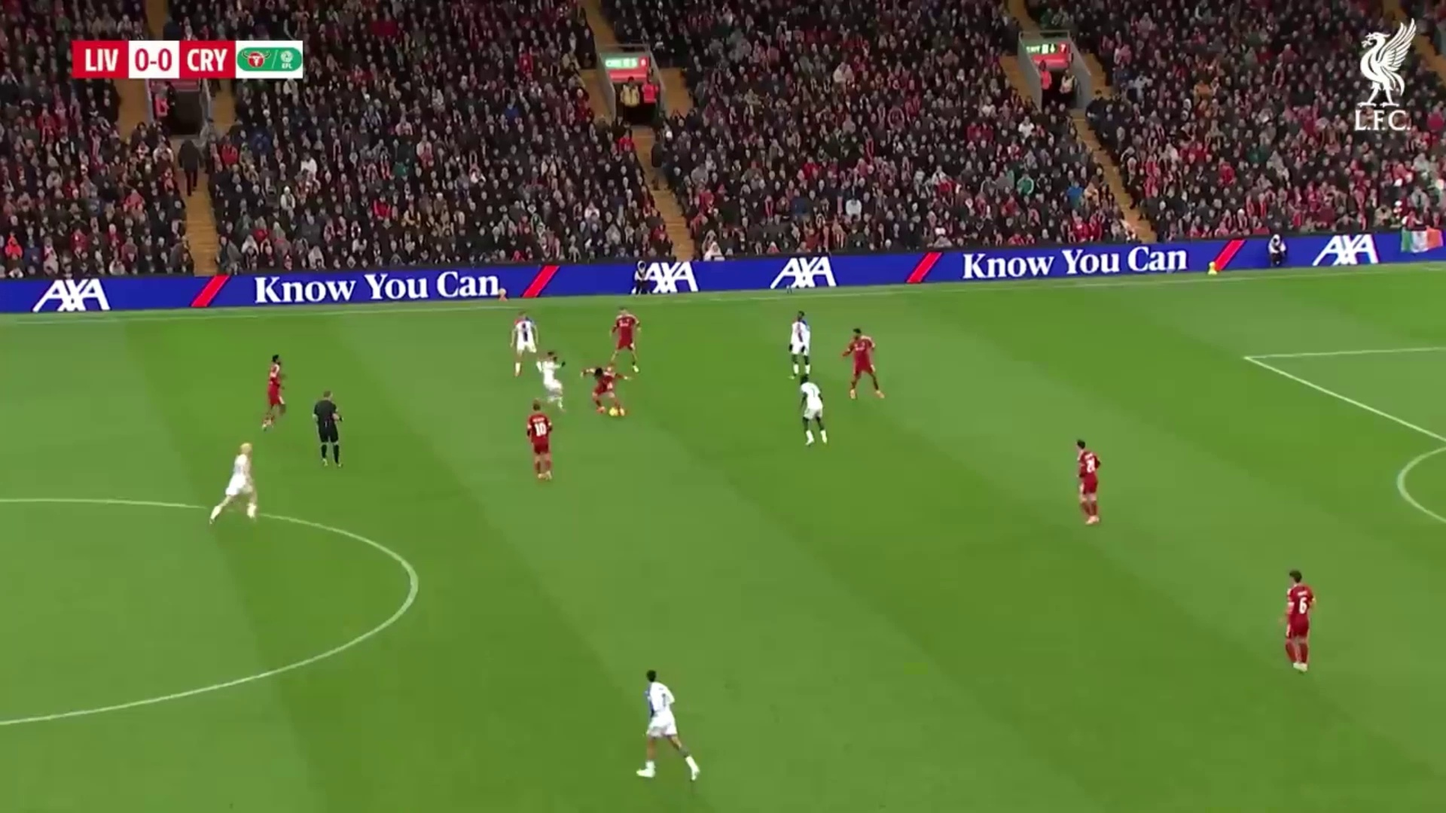player: (638, 668, 703, 782), (209, 442, 257, 524), (1281, 569, 1315, 672), (844, 326, 887, 401), (312, 391, 344, 469), (525, 404, 555, 482), (1075, 440, 1102, 525), (798, 372, 828, 448), (588, 364, 629, 419), (790, 311, 819, 375), (264, 354, 288, 430), (536, 351, 566, 411), (611, 311, 639, 370), (512, 317, 537, 377), (789, 310, 813, 364), (513, 317, 537, 361)
